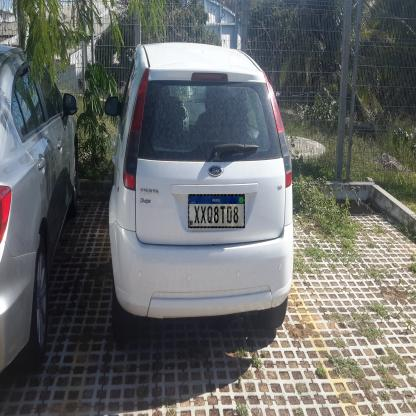PlacaM: (188, 194, 245, 228)
